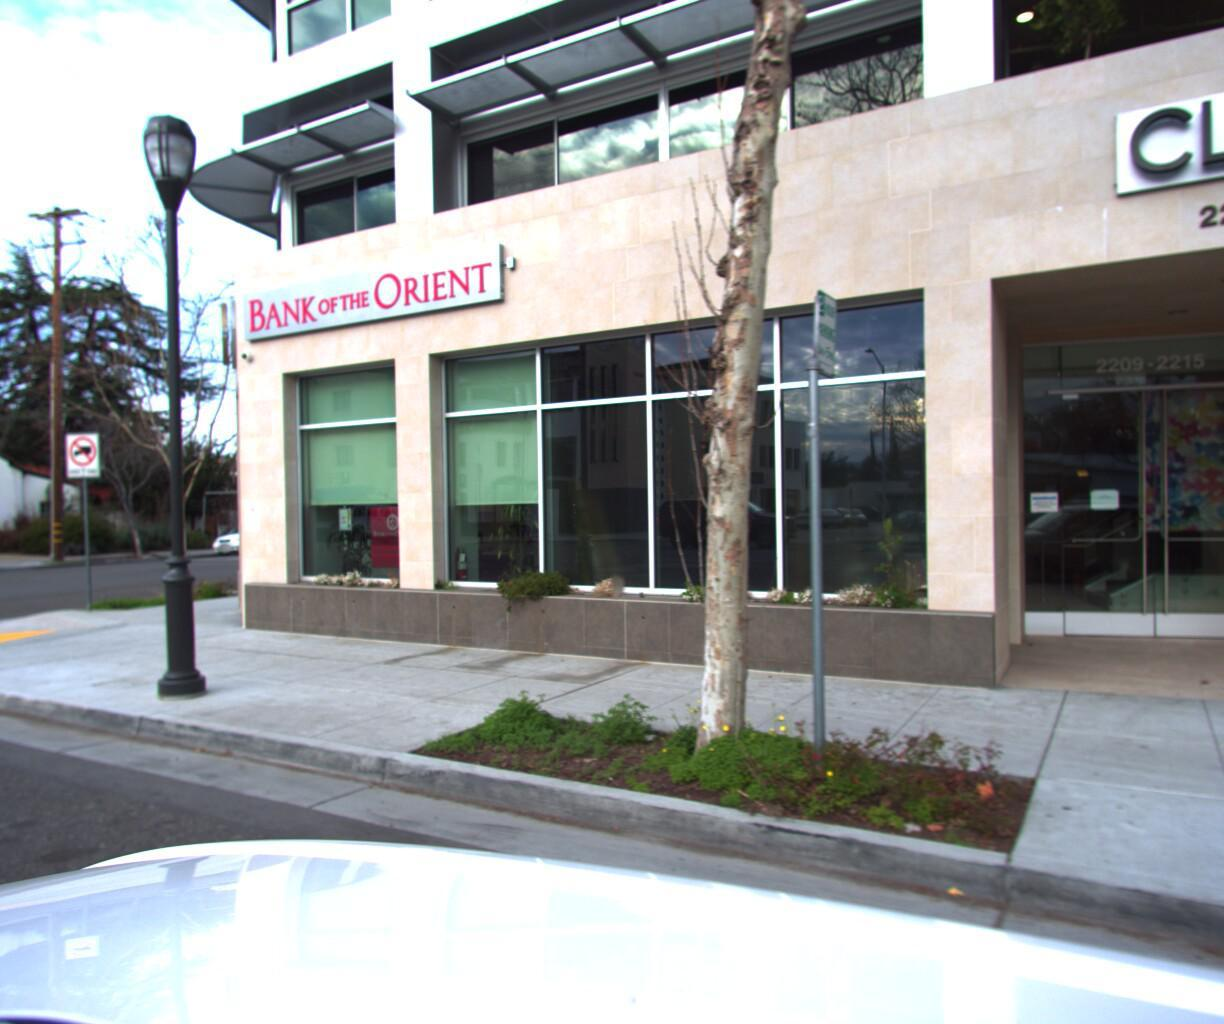car: (202, 518, 302, 556), (582, 507, 636, 541)
